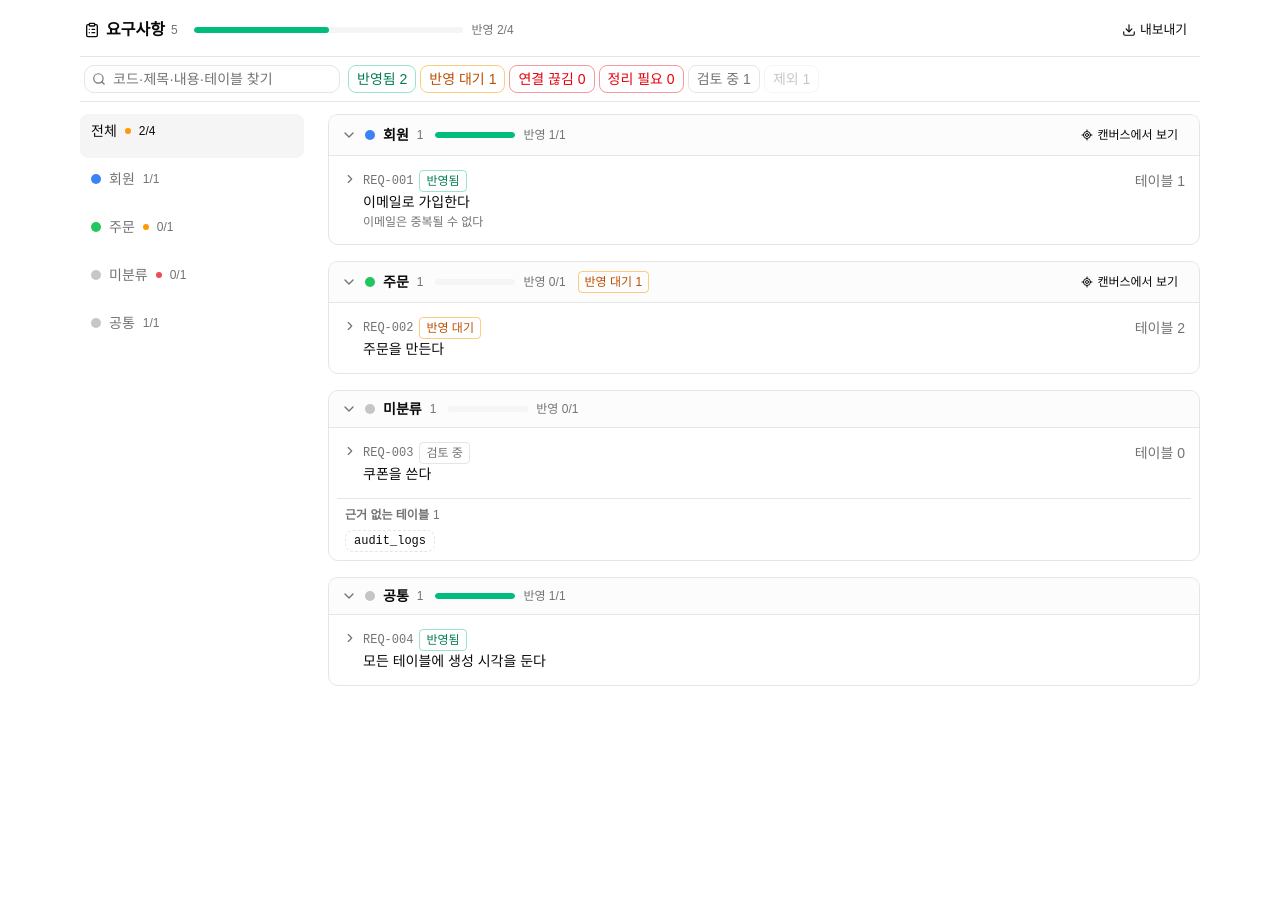
RequirementsPanel › 읽기 전용이면 추가·수정·반영 표시 버튼이 없다
The image size is (1280, 900).
Click the text "주문을 만든다": (404, 349) [363,341,444,357]
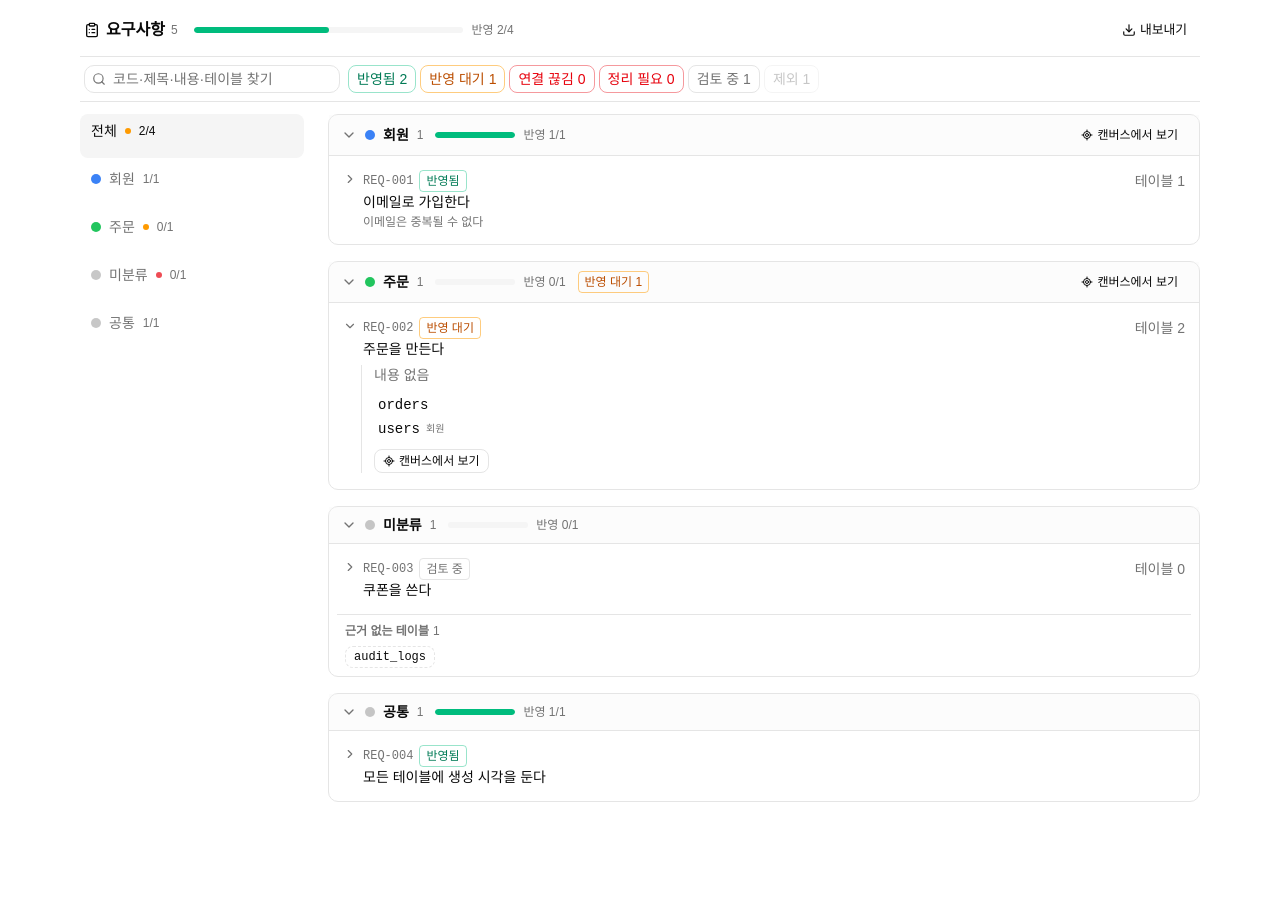
Expected: the element with test id "requirement-detail" is shown, [361,365,1191,473]
